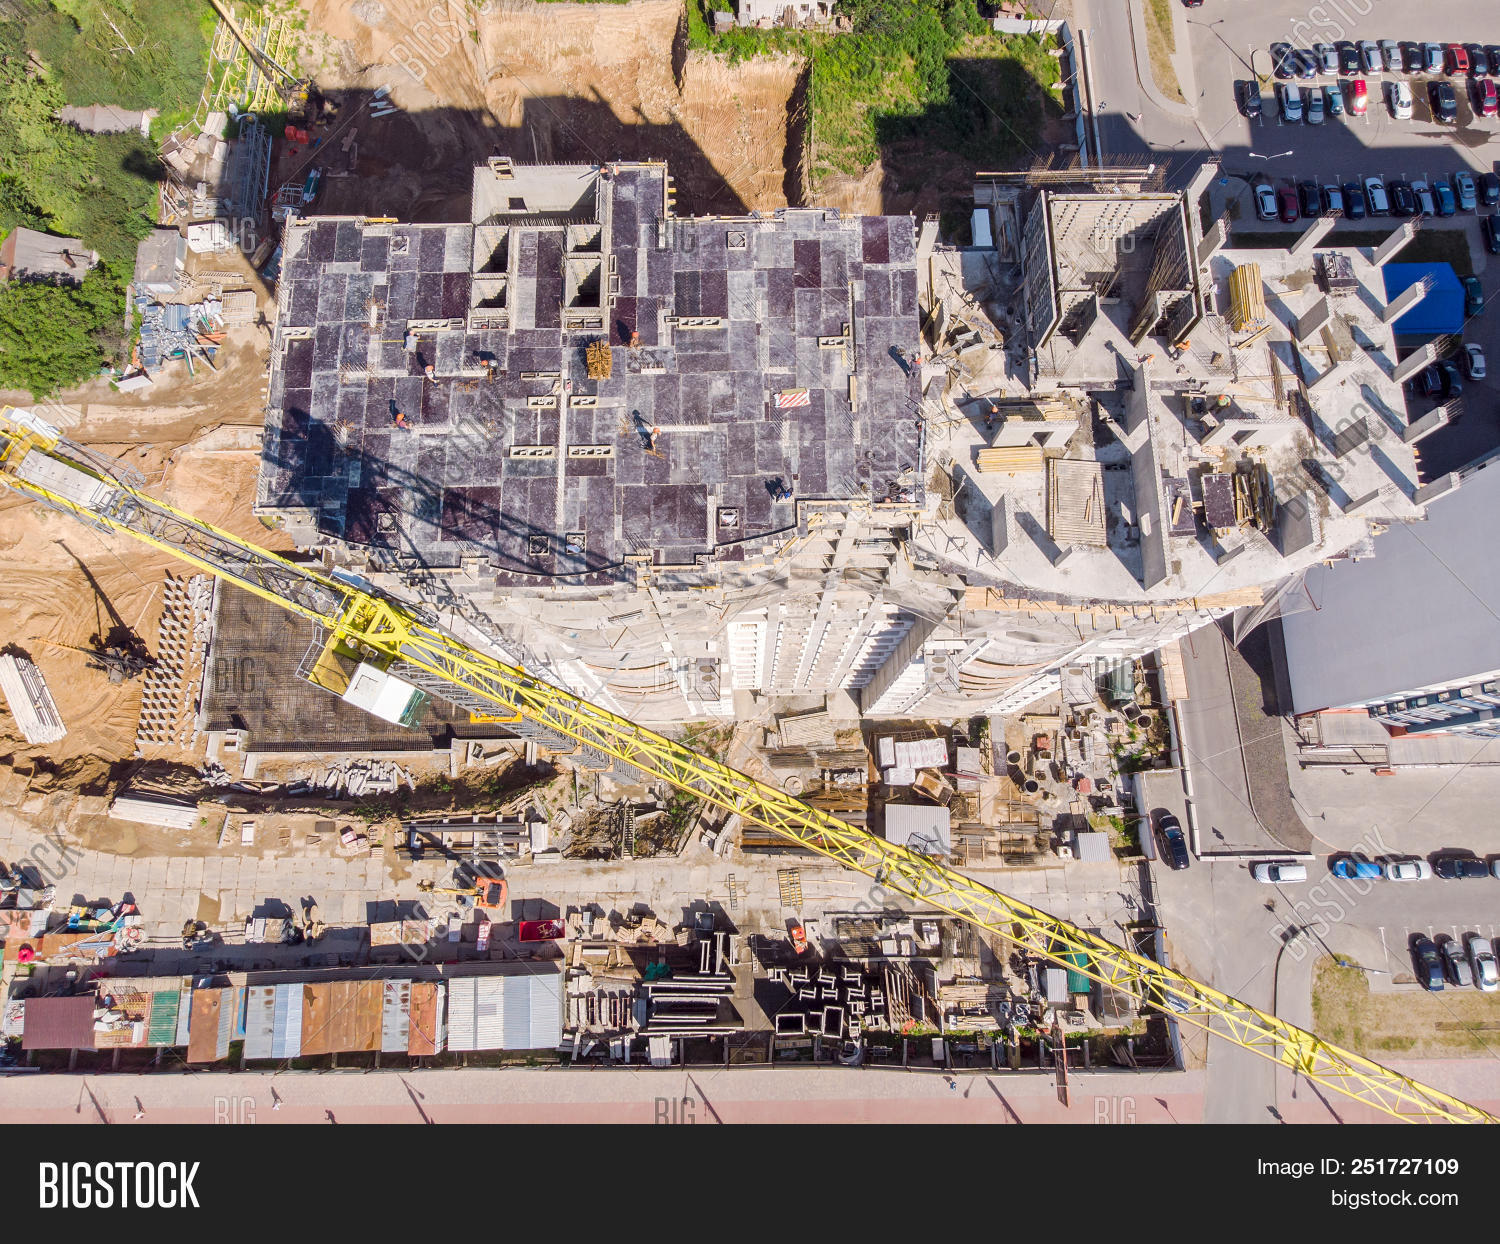crane: (7, 415, 1496, 1119)
